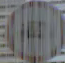Heavy Vehicles: (8, 8, 54, 50)
